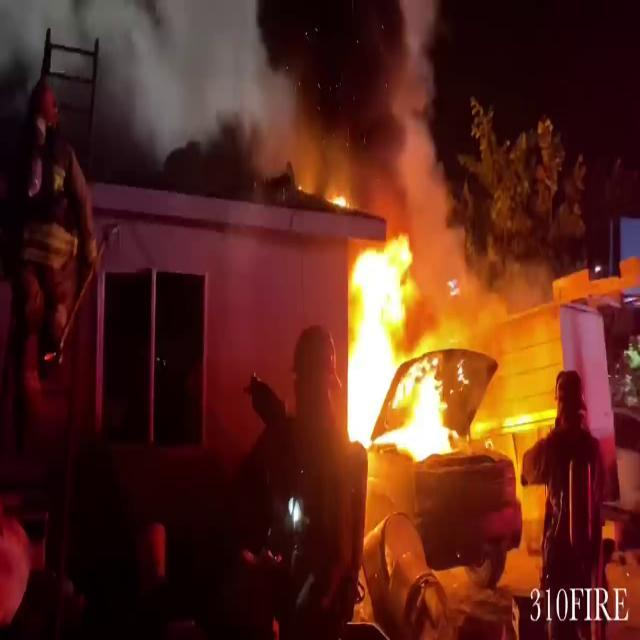Fire: (337, 231, 460, 464)
Smoke: (38, 0, 463, 205)
